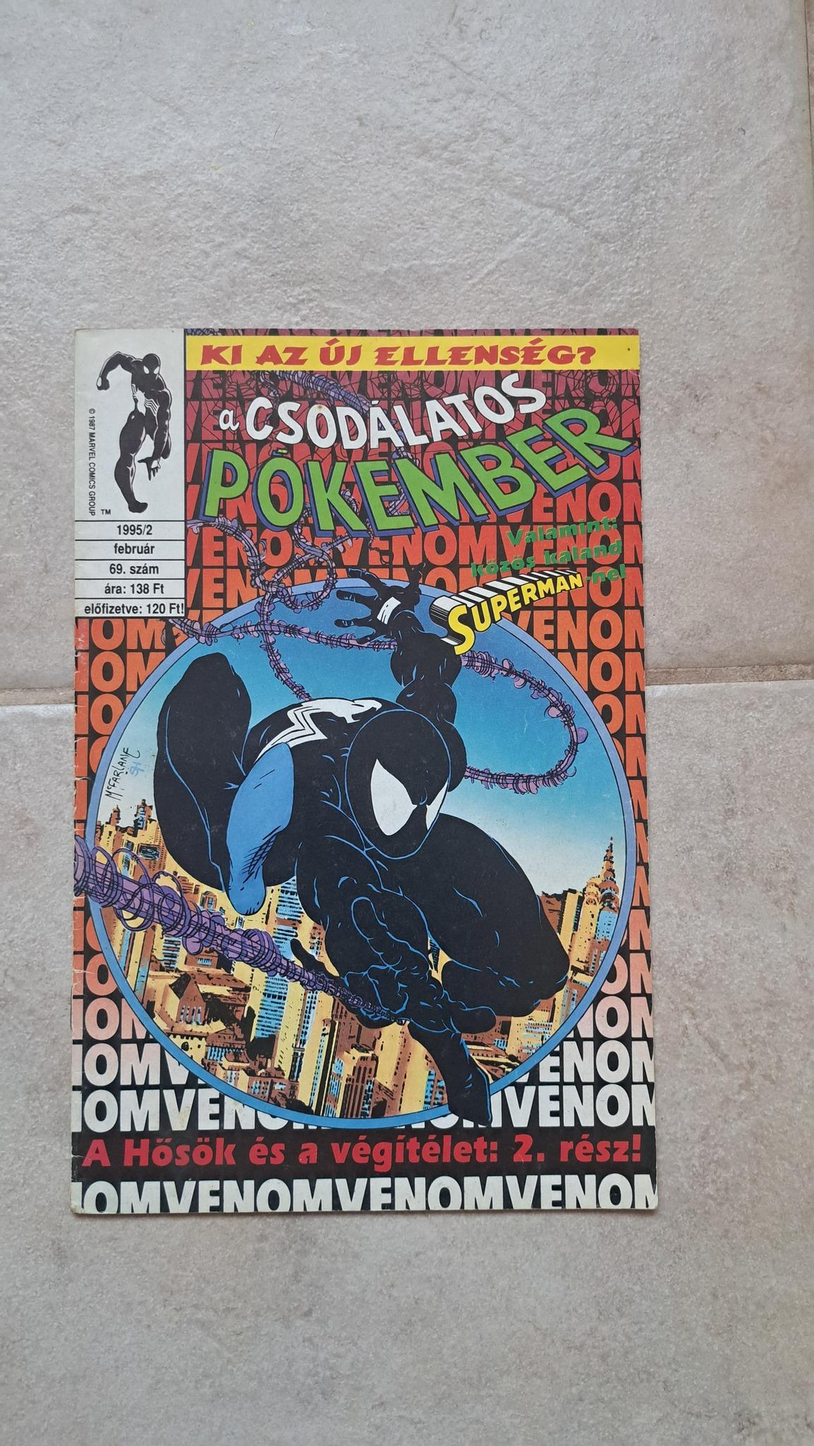comic: (67, 327, 655, 1214)
